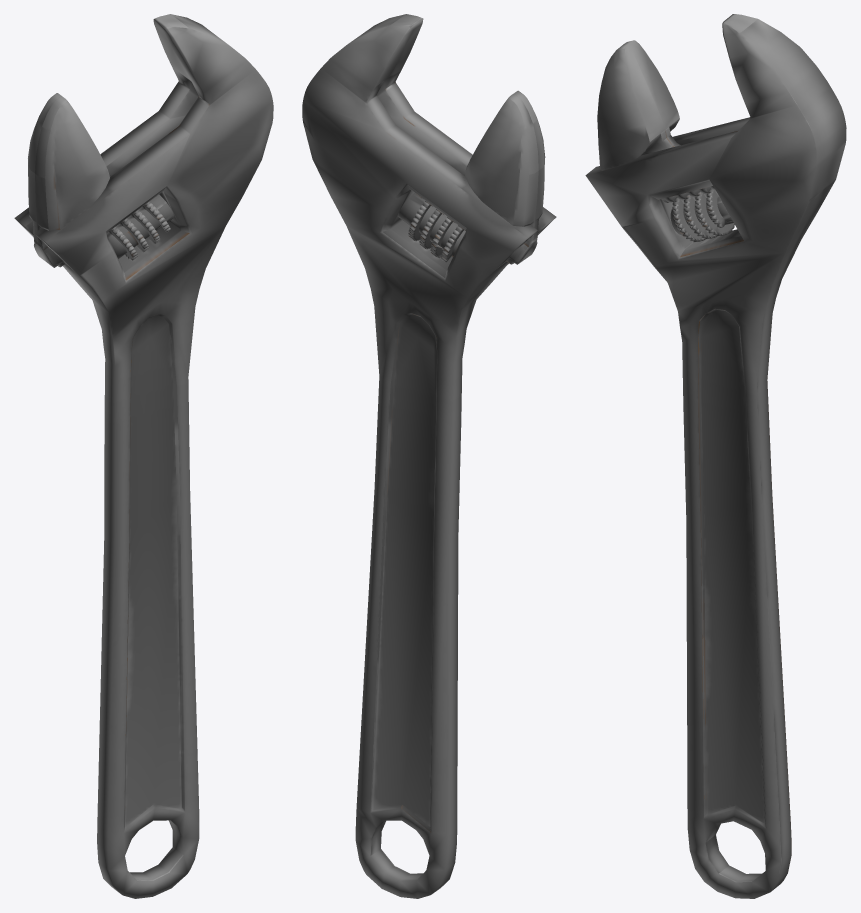
Rendered from wrench.glb.
3 renders of one model, left to right at view 1: azimuth 30°, elevation 25°; view 2: azimuth 150°, elevation 25°; view 3: azimuth 330°, elevation 25°, orthographic. The views are drawn at different scales.
Parts seen in each view (by area): view 1: Box002; view 2: Box002; view 3: Box002.
Boxes of the visible parts, <box> form: Box002: <box>14,14,273,898</box>; Box002: <box>302,14,556,898</box>; Box002: <box>585,14,846,898</box>.
Size of the model in its own units: 3.33 by 12.21 by 0.7993.
Materials: 1 (1 with a texture image).
